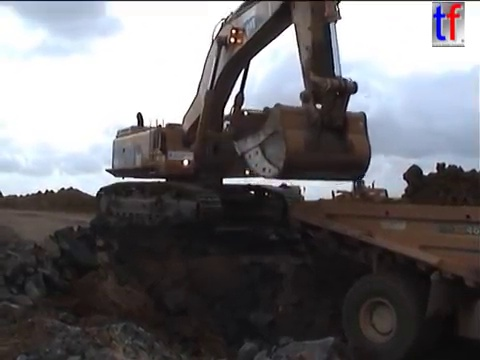excavator: (92, 1, 375, 236)
truck: (289, 197, 480, 360)
wheel loader: (316, 176, 392, 217)
